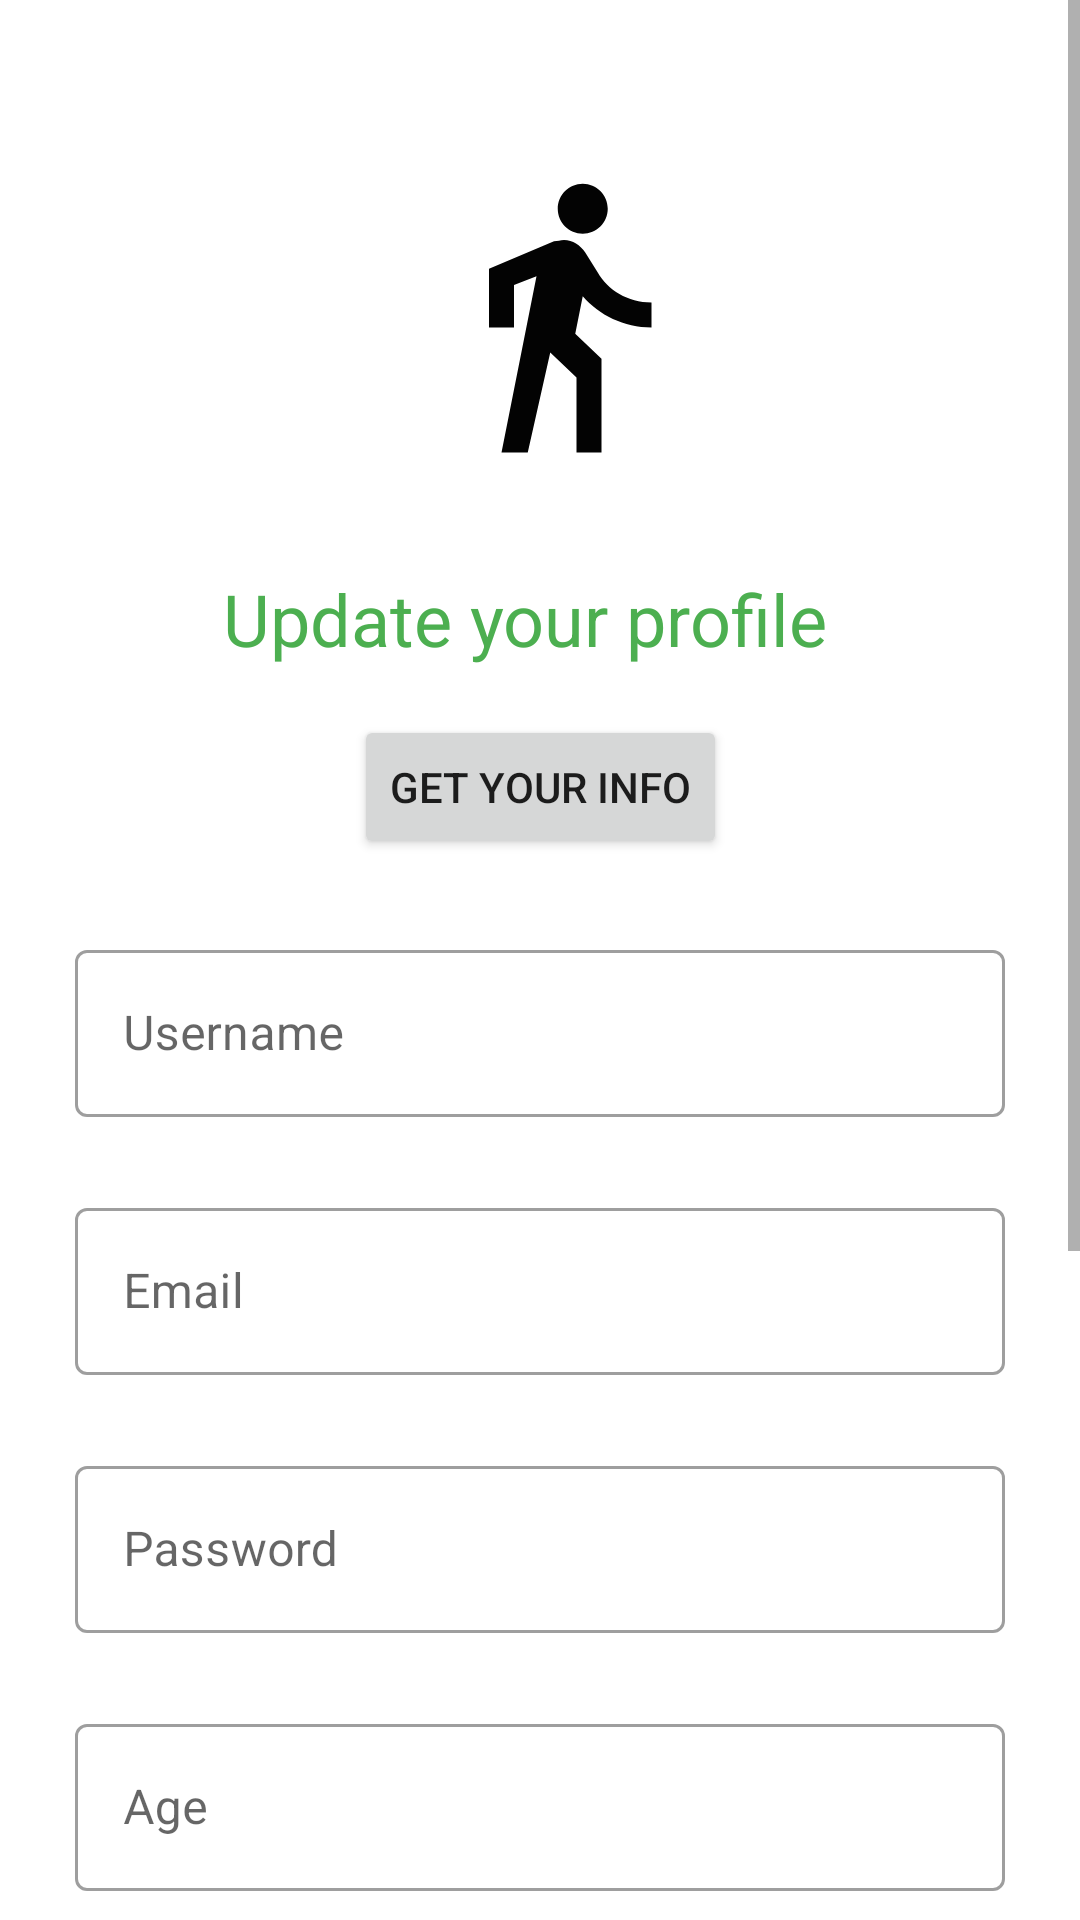

Where to tap for icons on this 1080px×1920px app screen, as point (x, y):
directions walk: point (570, 318)
